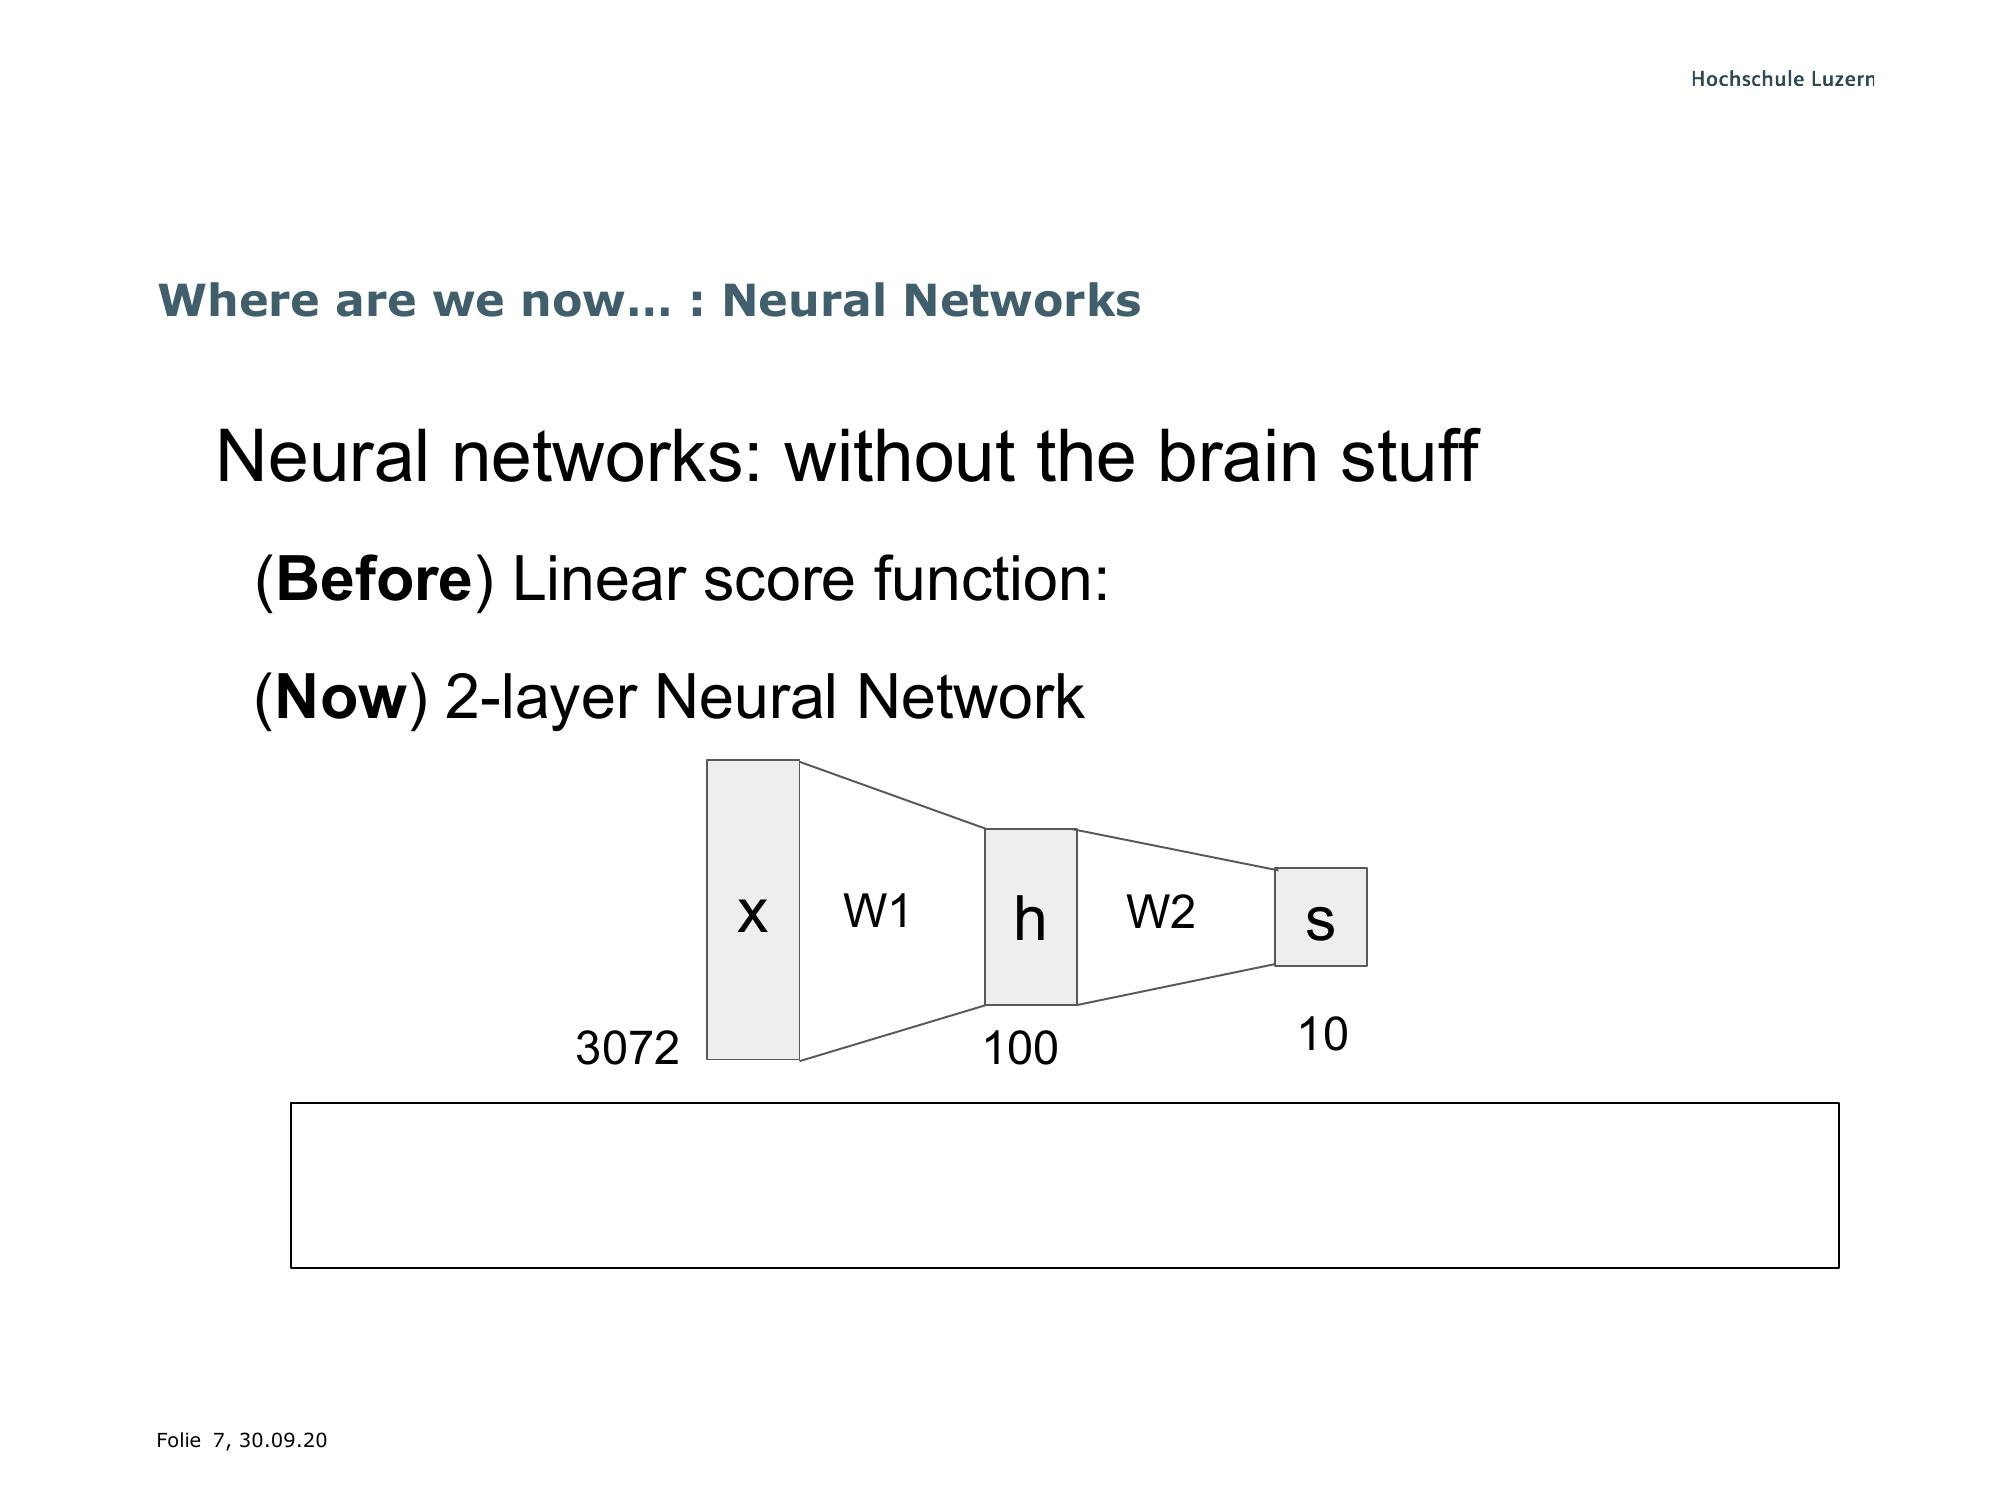Title: (132, 257, 1146, 342)
